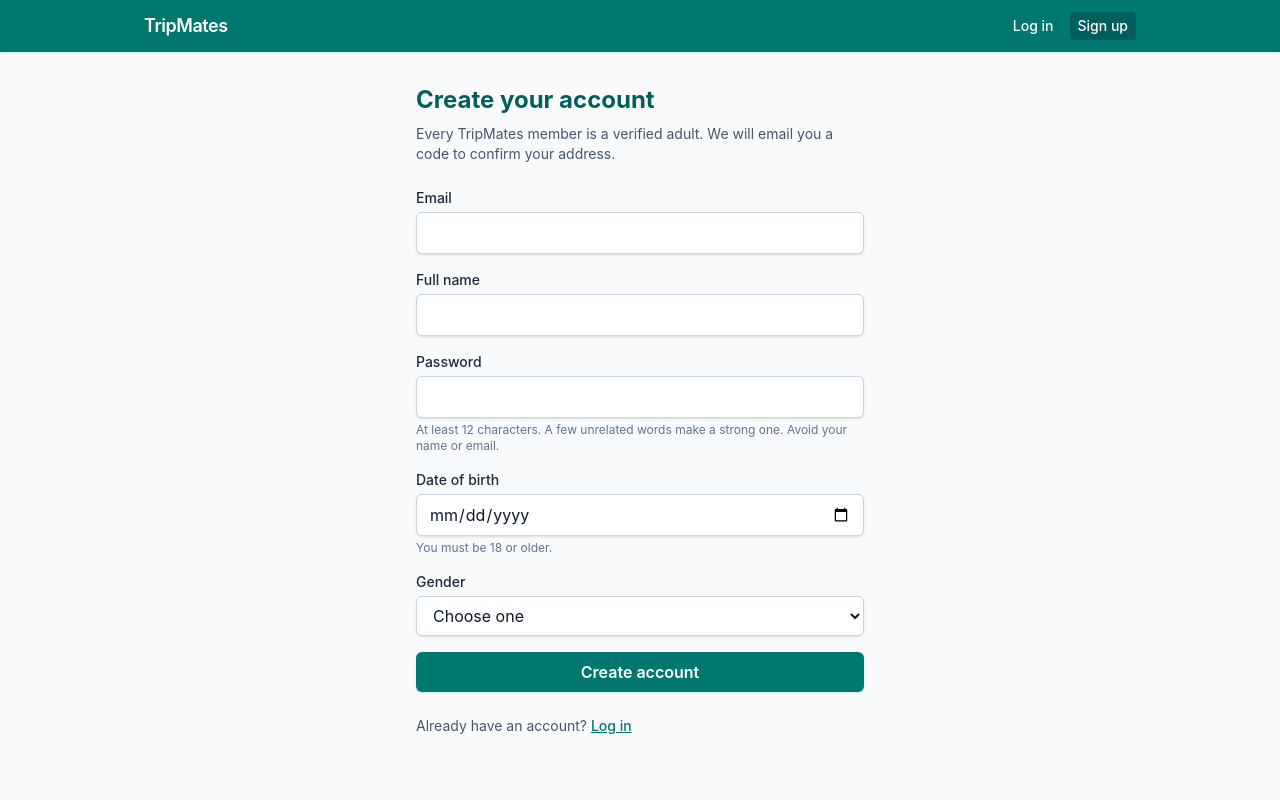
signup screen › tells the user when the network is down
The width and height of the screenshot is (1280, 800).
Type "asha.verma@example.com" into the field labelled "Email" at (640, 233), box [416,212,864,254]
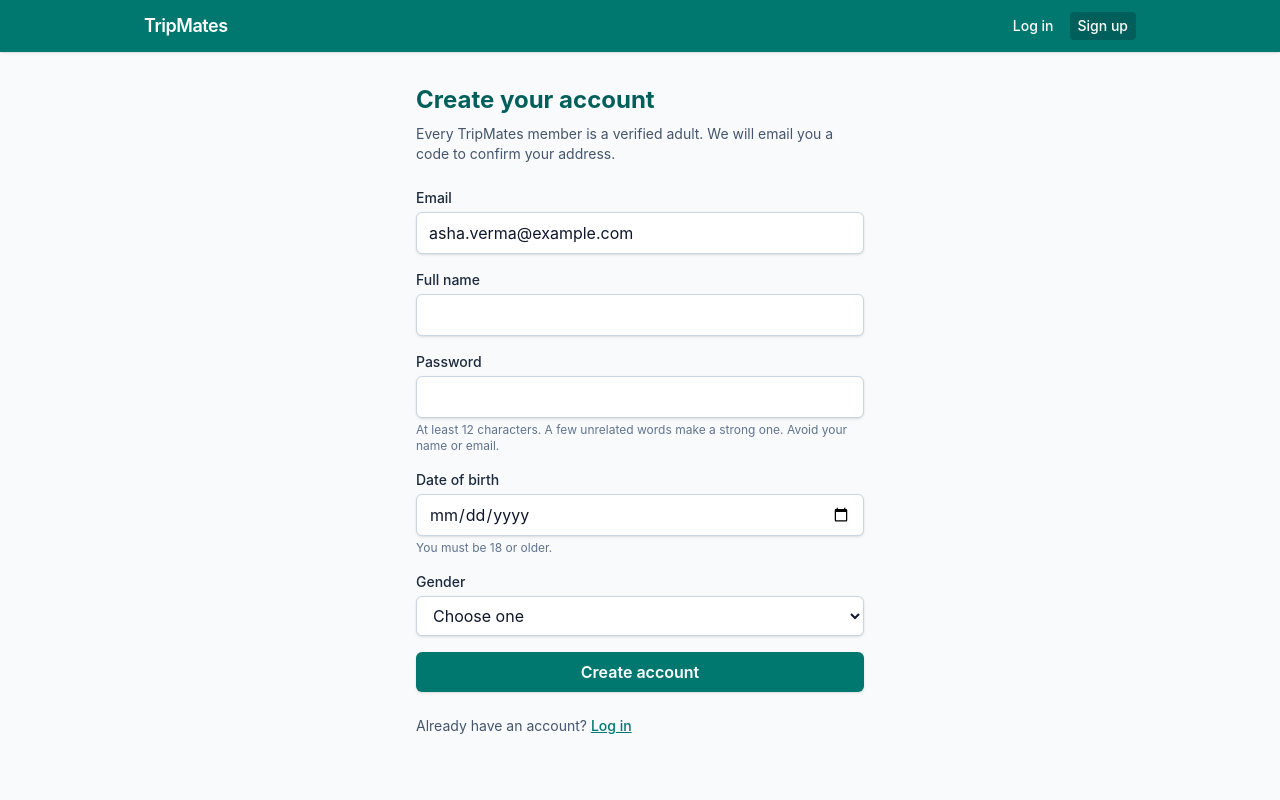
Type "Asha Verma" into the field labelled "Full name" at (640, 315), box [416,294,864,336]
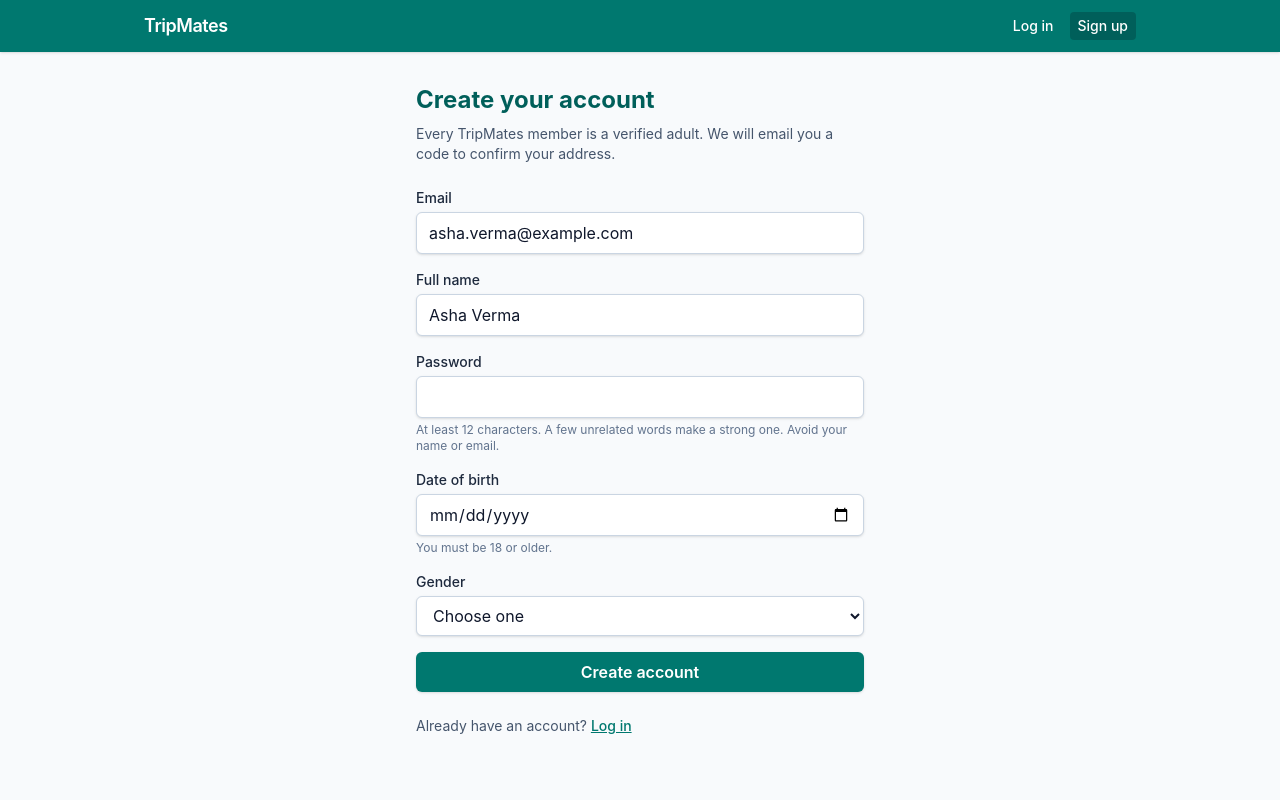
Type "violet-kettle-harbour-91" into the password field labelled "Password" at (640, 397), box [416,376,864,418]
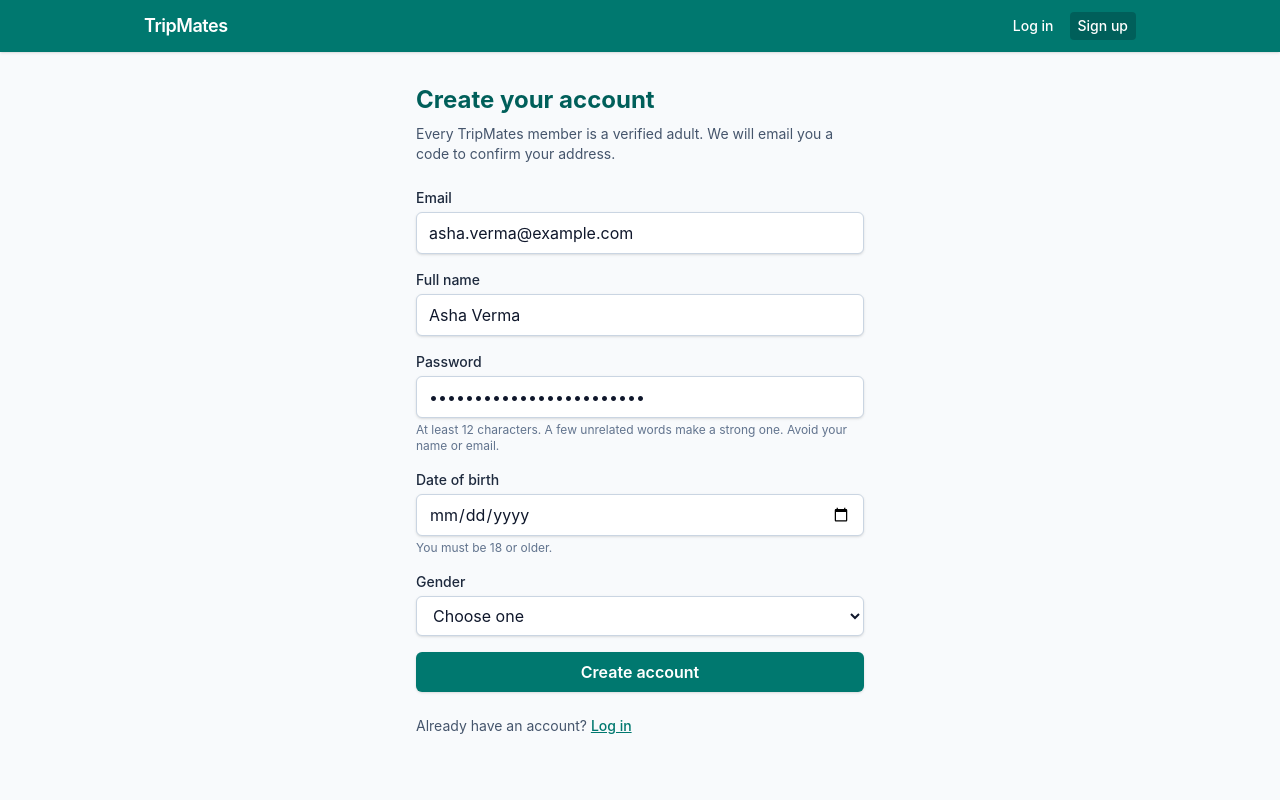
Type "2000-04-15" into the date field labelled "Date of birth" at (640, 515), box [416,494,864,536]
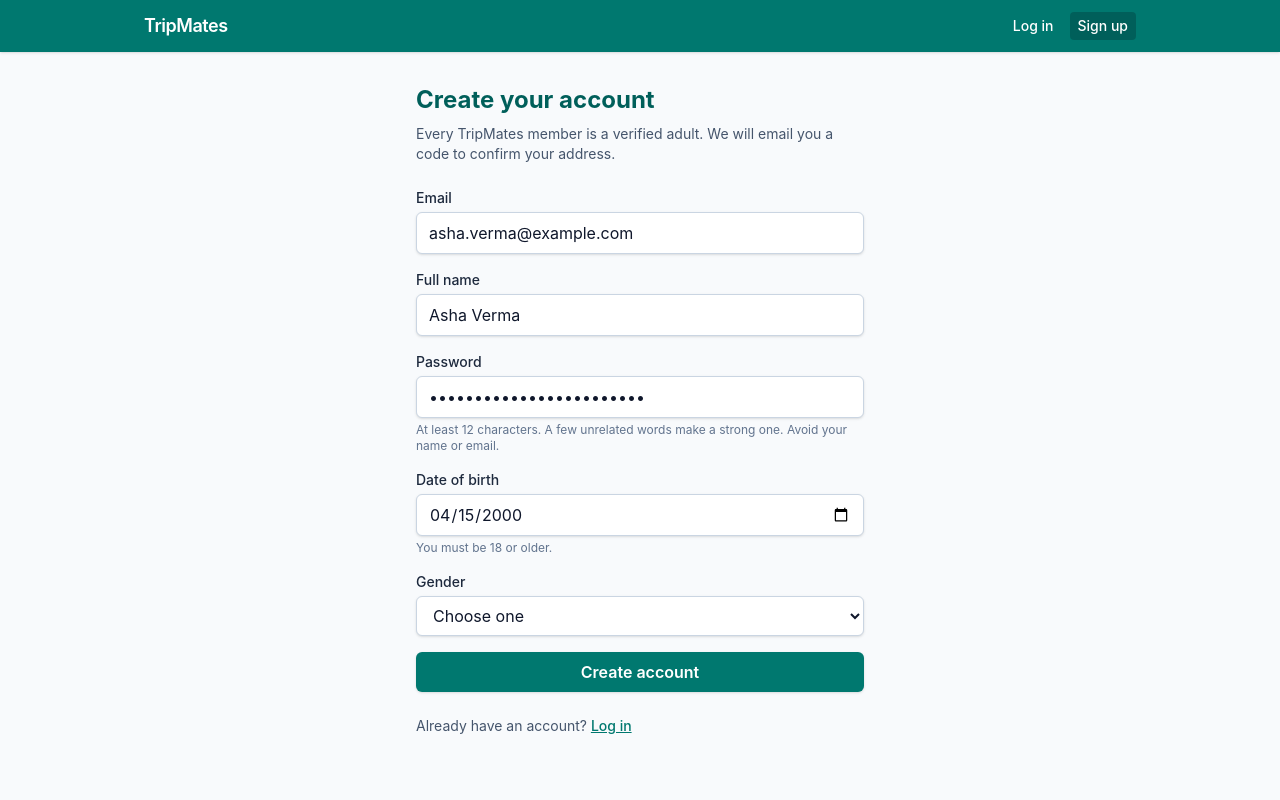
Select "Female" in the dropdown labelled "Gender" at (640, 616), box [416,596,864,636]
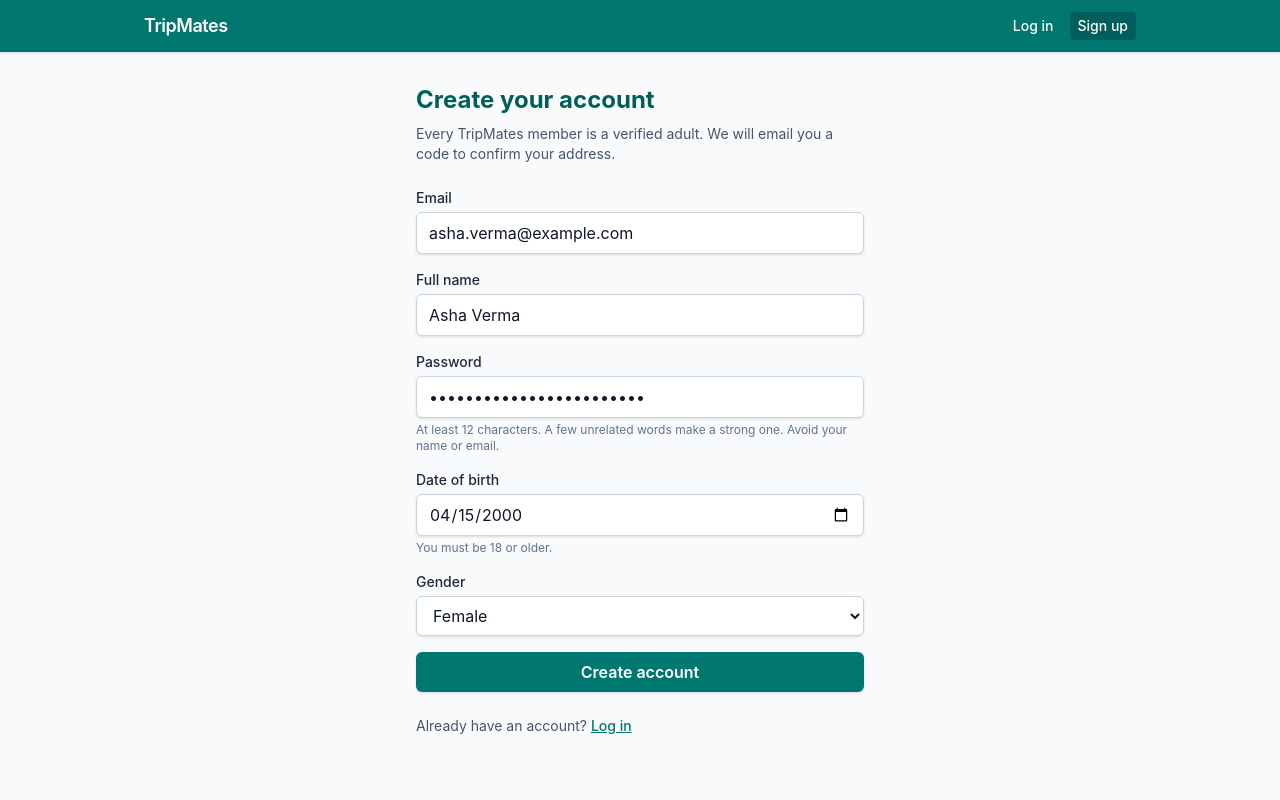
Click the button "Create account" at (640, 672), box [416,652,864,692]
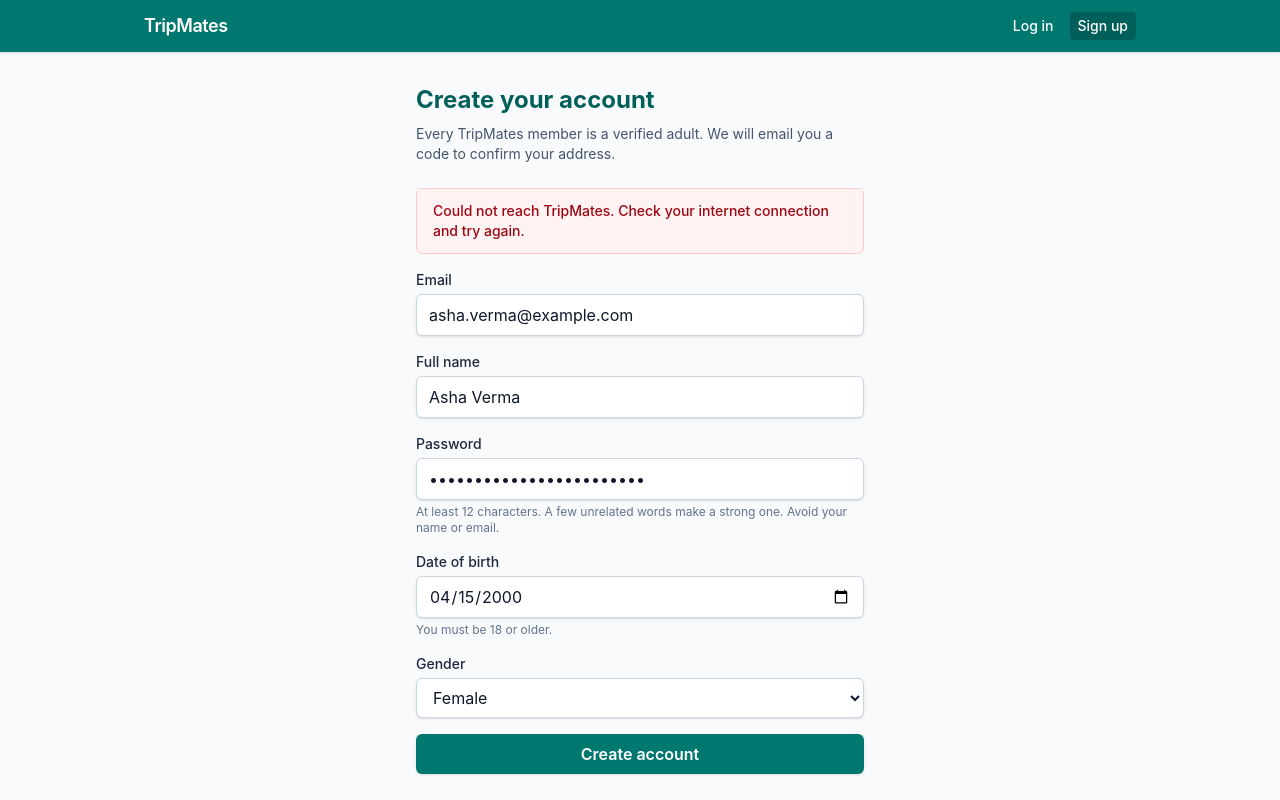
Result: the message shows "Could not reach TripMates" at [433,202,829,239]
